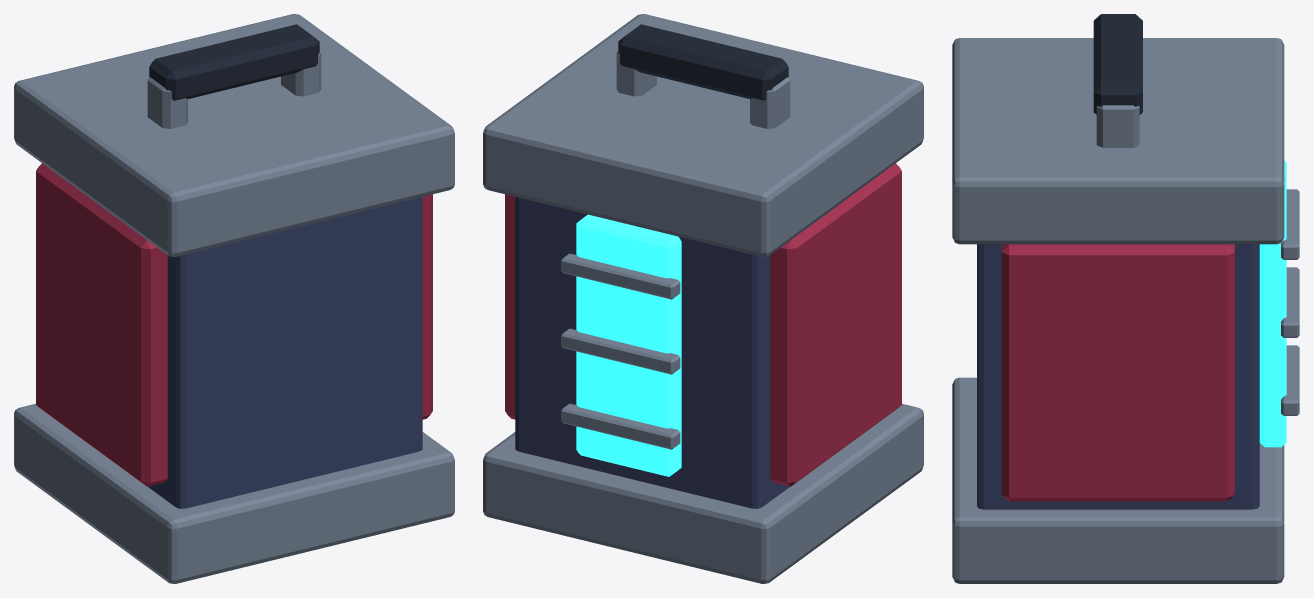
The model's file is resource-canister.glb.
3 views of the same model, side by side, from view 1: azimuth 30°, elevation 25°; view 2: azimuth 150°, elevation 25°; view 3: azimuth 270°, elevation 25° (orthographic). The views are drawn at different scales.
Parts seen in each view (by area): view 1: GEO-resource-canister; view 2: GEO-resource-canister; view 3: GEO-resource-canister.
Part boxes in pixels (x1,y1,x2,y2): GEO-resource-canister: (14, 14, 454, 583); GEO-resource-canister: (483, 14, 923, 583); GEO-resource-canister: (952, 14, 1299, 583).
Bounding box in the file's own units: 0.285 × 0.417 × 0.2825.
